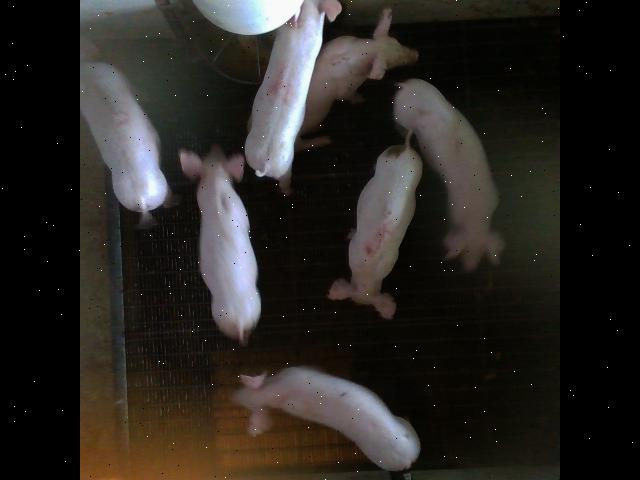pig-3: (329, 131, 422, 318)
pig-4: (245, 0, 341, 193)
